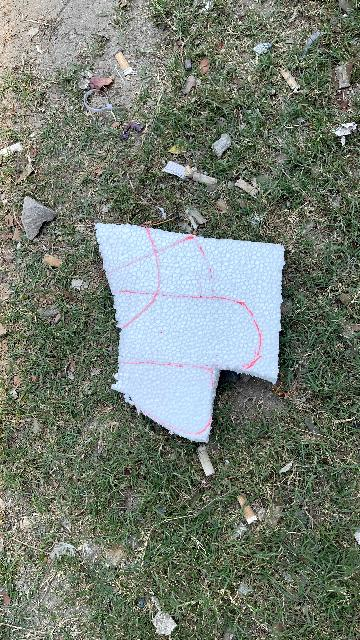cocksheet: (87, 211, 303, 471)
